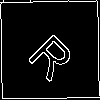R: (25, 25, 83, 83)
